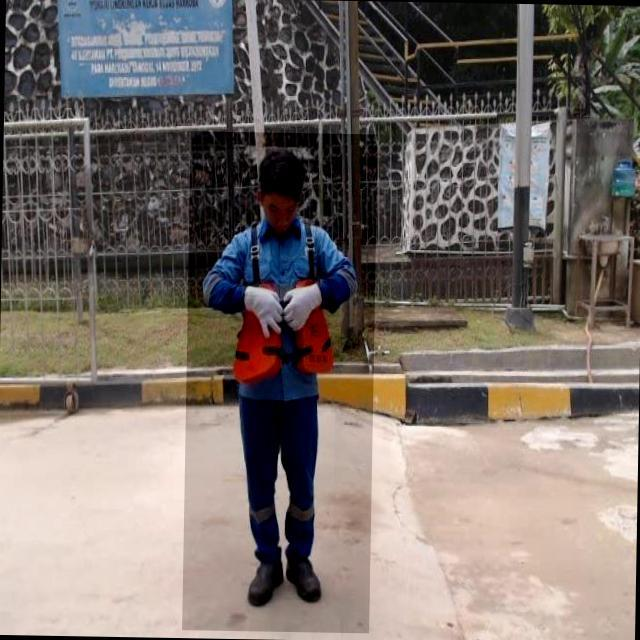Gloves: (238, 274, 324, 345)
Person: (192, 134, 368, 625)
Safety Boot: (284, 547, 329, 612), (248, 551, 285, 611)
Safety Vest: (231, 224, 344, 401)
no-helmet: (255, 149, 305, 199)
